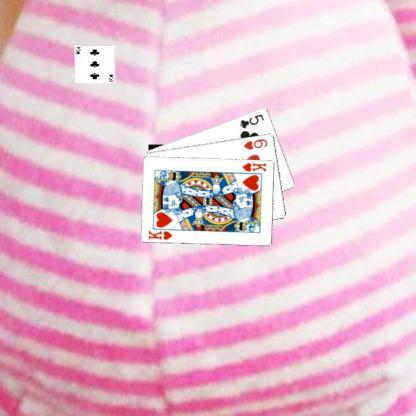5C: (238, 112, 265, 130)
6H: (242, 136, 269, 151)
KH: (240, 160, 267, 173), (146, 228, 174, 240)
